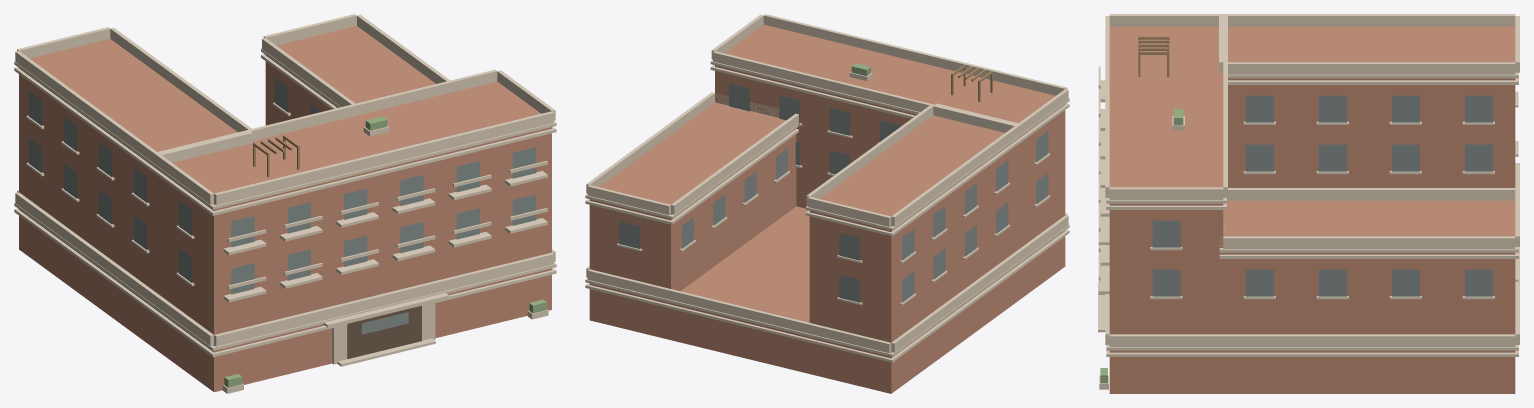
The model's file is residential_3x3_court.glb.
3 views of the same model, side by side, from view 1: azimuth 30°, elevation 25°; view 2: azimuth 150°, elevation 25°; view 3: azimuth 270°, elevation 25° (orthographic). The views are drawn at different scales.
Visible parts, largest first — view 1: residential_3x3_court_0; view 2: residential_3x3_court_0; view 3: residential_3x3_court_0.
Part boxes in pixels (x1,y1,x2,y2): residential_3x3_court_0: (14,14,556,393); residential_3x3_court_0: (585,14,1069,393); residential_3x3_court_0: (1098,14,1519,393).
Bounding box in the file's own units: 23 × 13.5 × 23.4.
